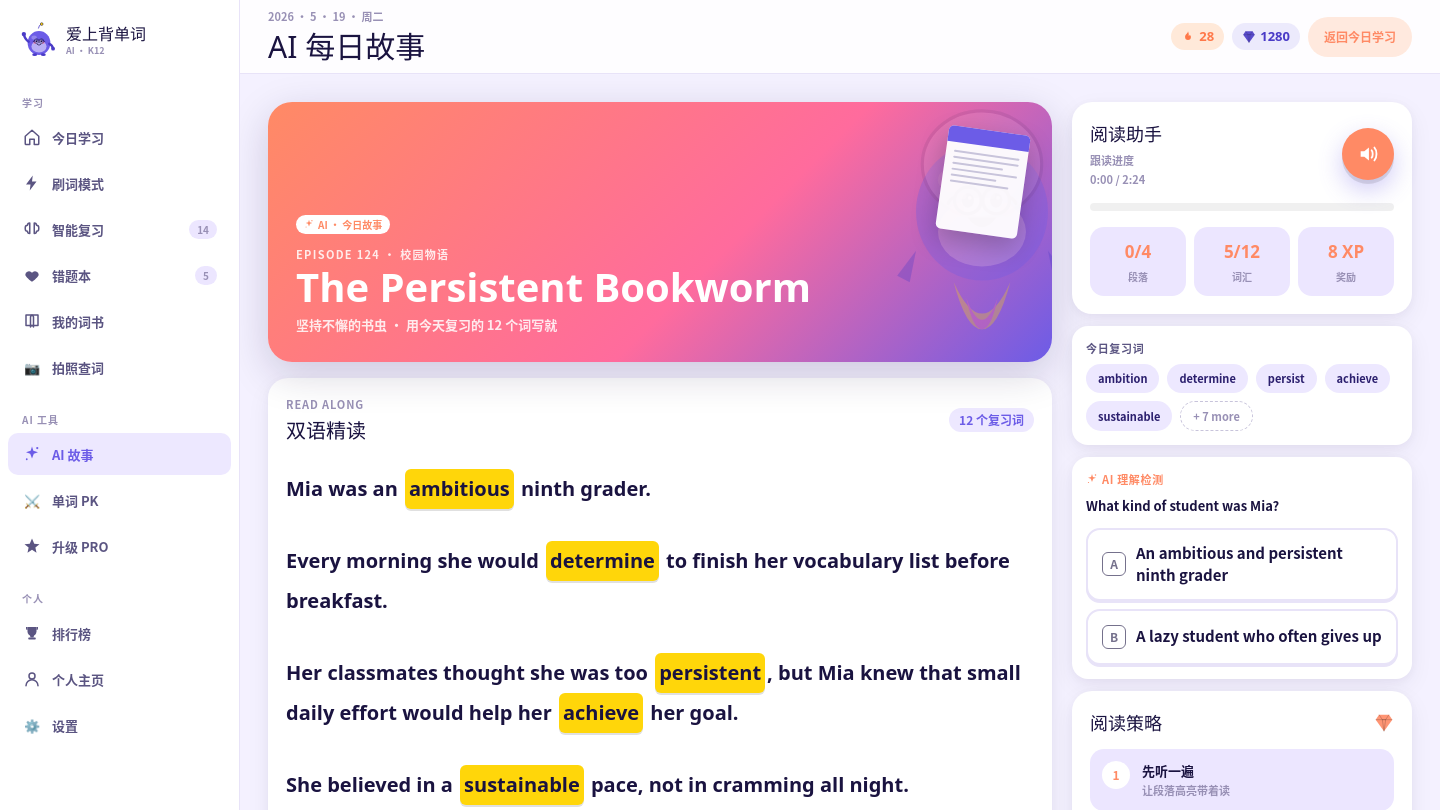
Test case: StoryScreen › renders the desktop reading workspace and routes web actions
Check: the text "AI 每日故事" is shown, box left=268, top=28, right=425, bottom=66
Check: the heading "阅读助手" is shown, box left=1090, top=120, right=1162, bottom=148
Click the button "返回今日学习" at (1360, 36), box left=1308, top=16, right=1412, bottom=56
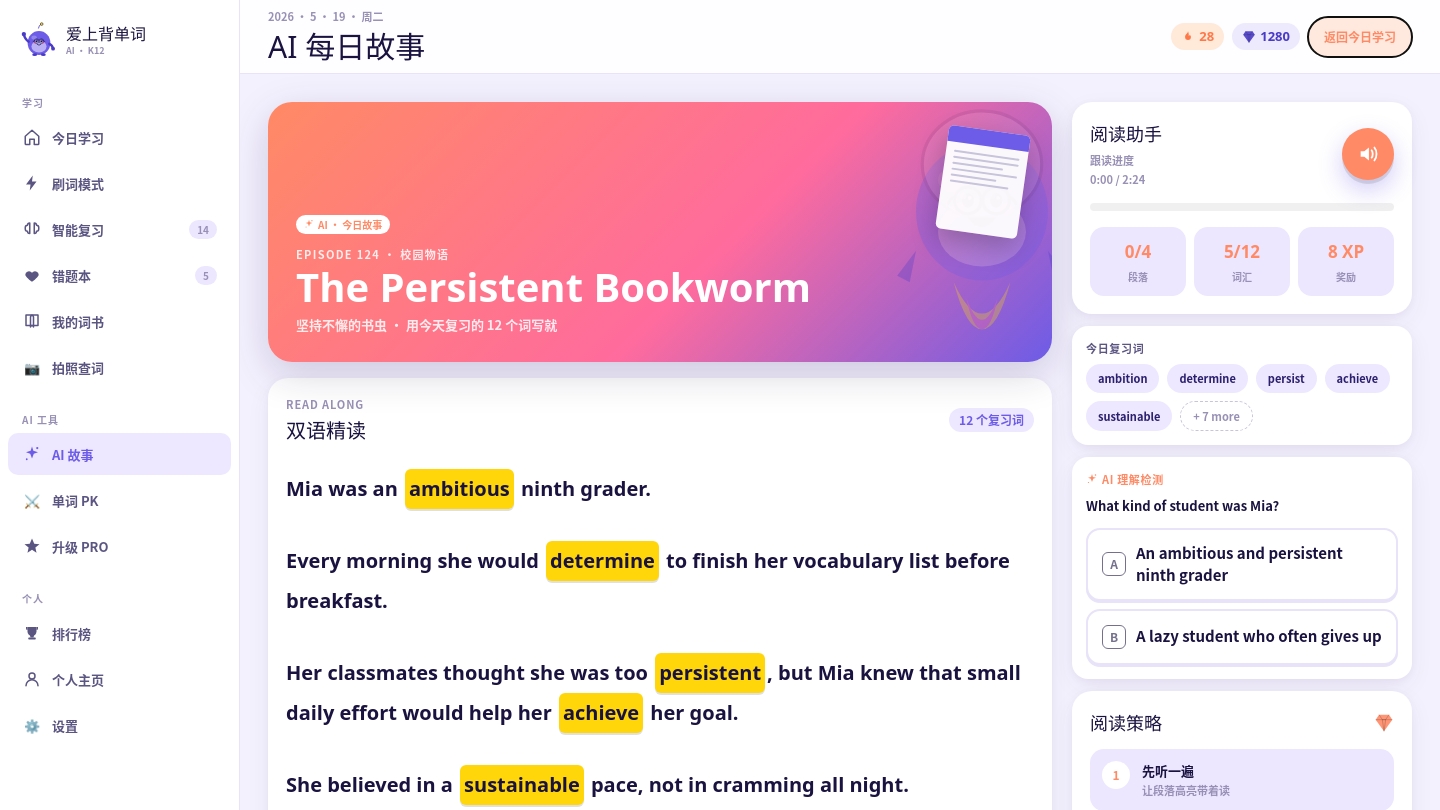
Click the button named "播放故事 Web" at (1368, 154), box left=1342, top=128, right=1394, bottom=180
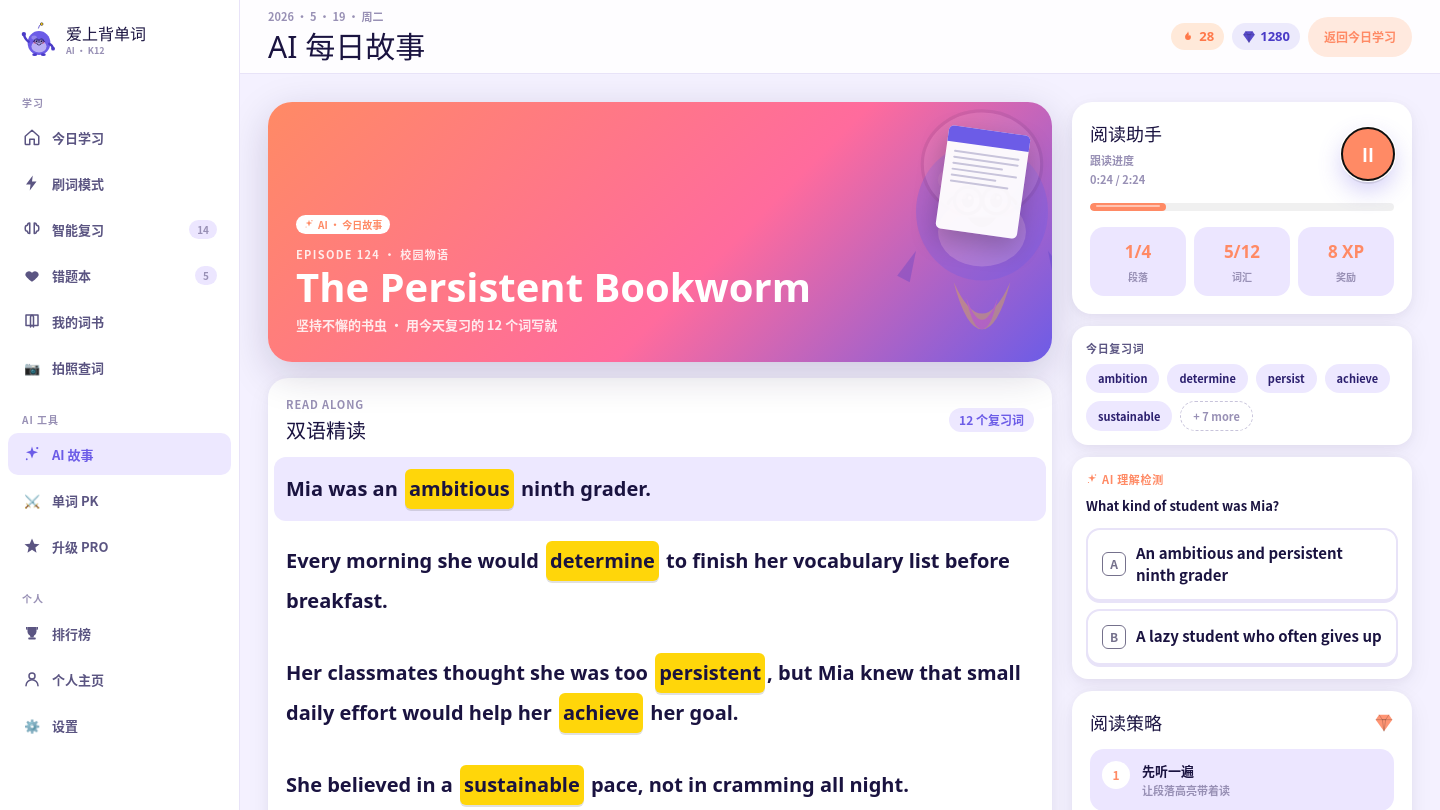
Check: the button with aria-label "暂停故事 Web" is shown, box left=1342, top=128, right=1394, bottom=180
